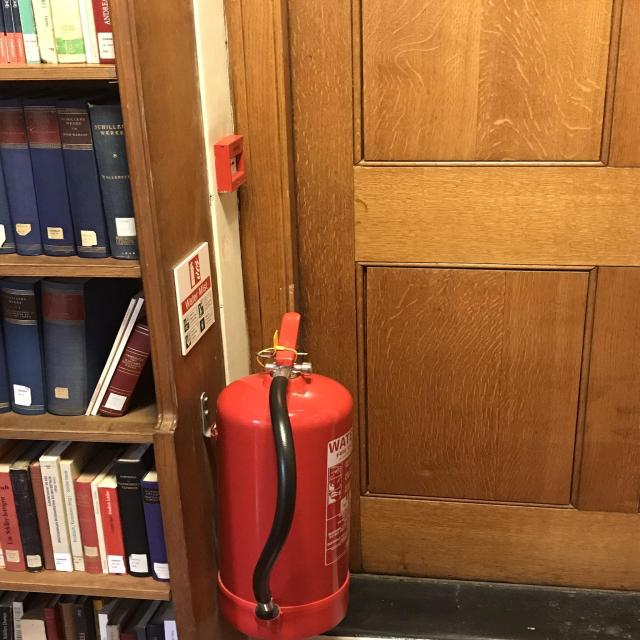fire_extinguisher: (208, 309, 358, 640)
